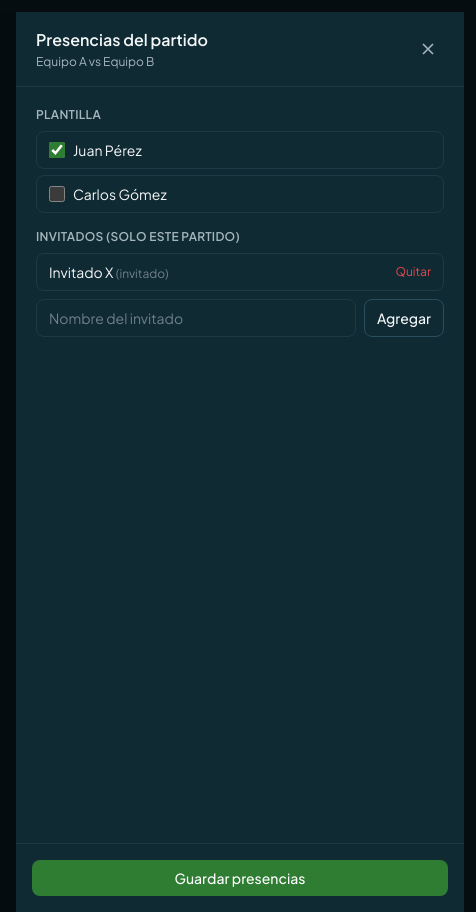
Test: MatchPresenceEditor › muestra el error del backend (p. ej. 403 de no-dueño)
Expected: the text "Juan Pérez" is shown, [36,131,444,169]
Click the button "Guardar presencias".
click(240, 878)  # box [32,860,448,896]
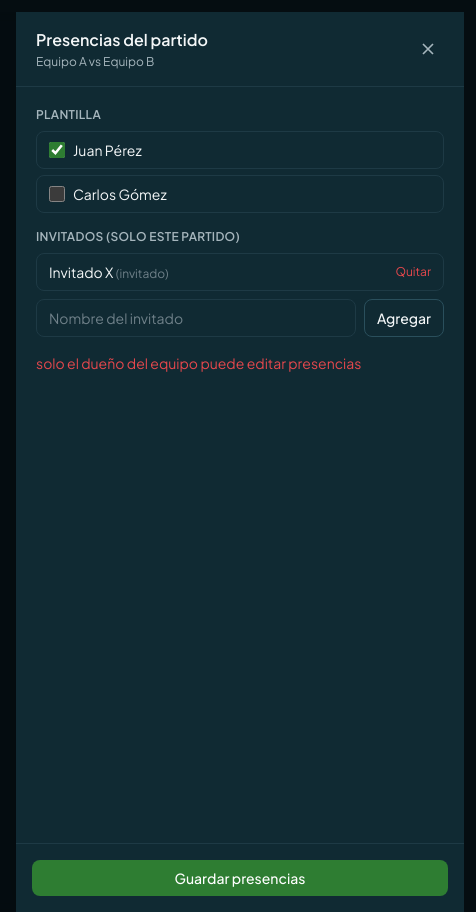
Result: the text "solo el dueño del equipo puede editar presencias" is shown at [36,354,361,372]
